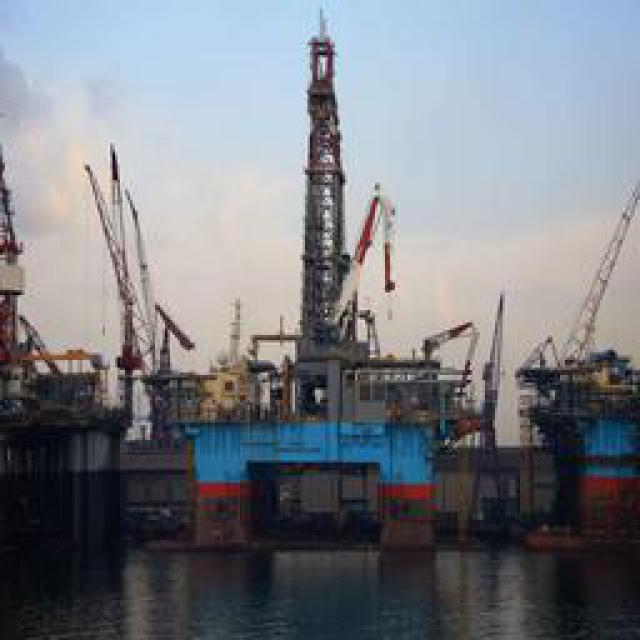Ship: (145, 143, 508, 538)
